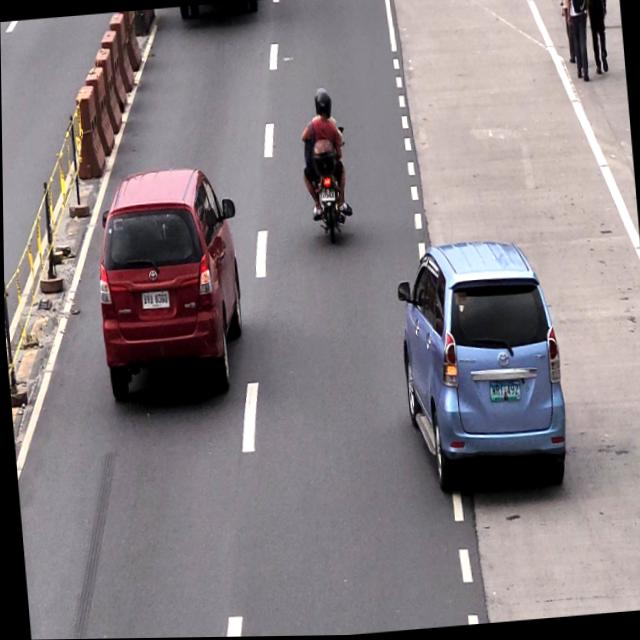Car: (388, 233, 569, 505), (92, 169, 244, 393)
License-Plate: (488, 377, 521, 408), (137, 285, 170, 313), (318, 185, 336, 207)
Motorcycle: (295, 84, 351, 245)
